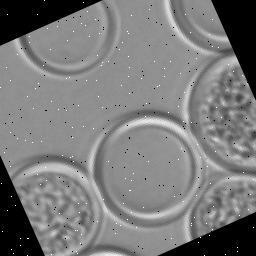picoshell: (86, 110, 204, 228), (9, 159, 101, 256), (181, 53, 256, 171), (12, 0, 119, 78), (182, 171, 256, 241), (162, 0, 230, 55)
